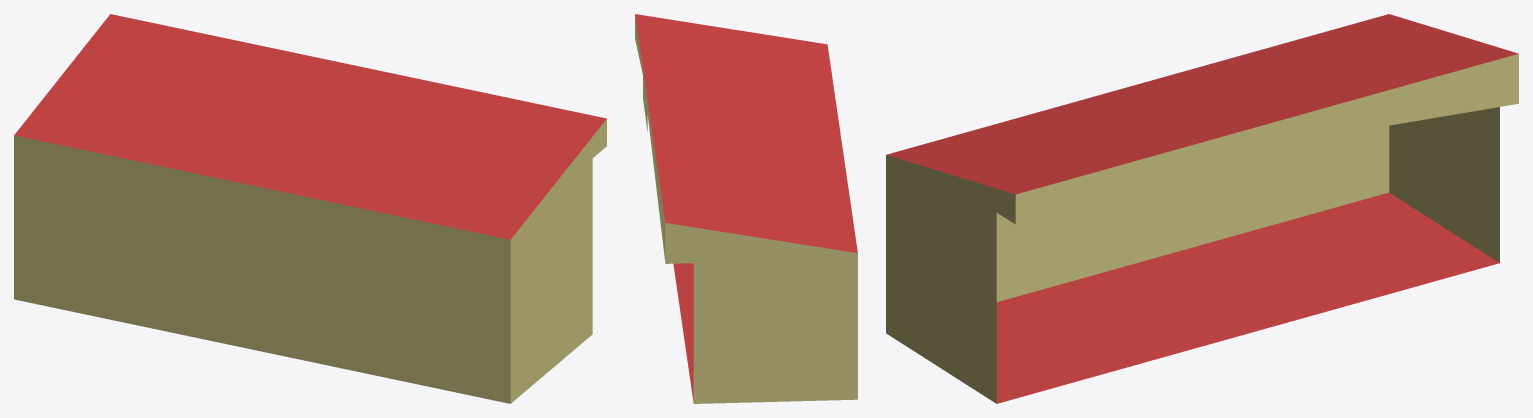
The picture shows the model from 3 angles, left to right: view 1: azimuth 30°, elevation 25°; view 2: azimuth 150°, elevation 25°; view 3: azimuth 270°, elevation 25°; orthographic projection. The views are drawn at different scales.
Size of the model in its own units: 25.16 by 30.09 by 11.63.
